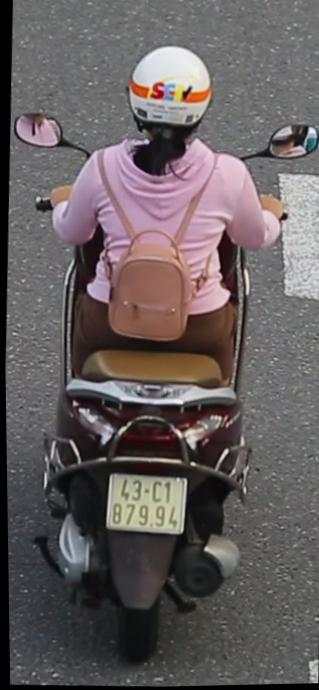LP: (101, 470, 191, 544)
helmet: (123, 36, 217, 153)
